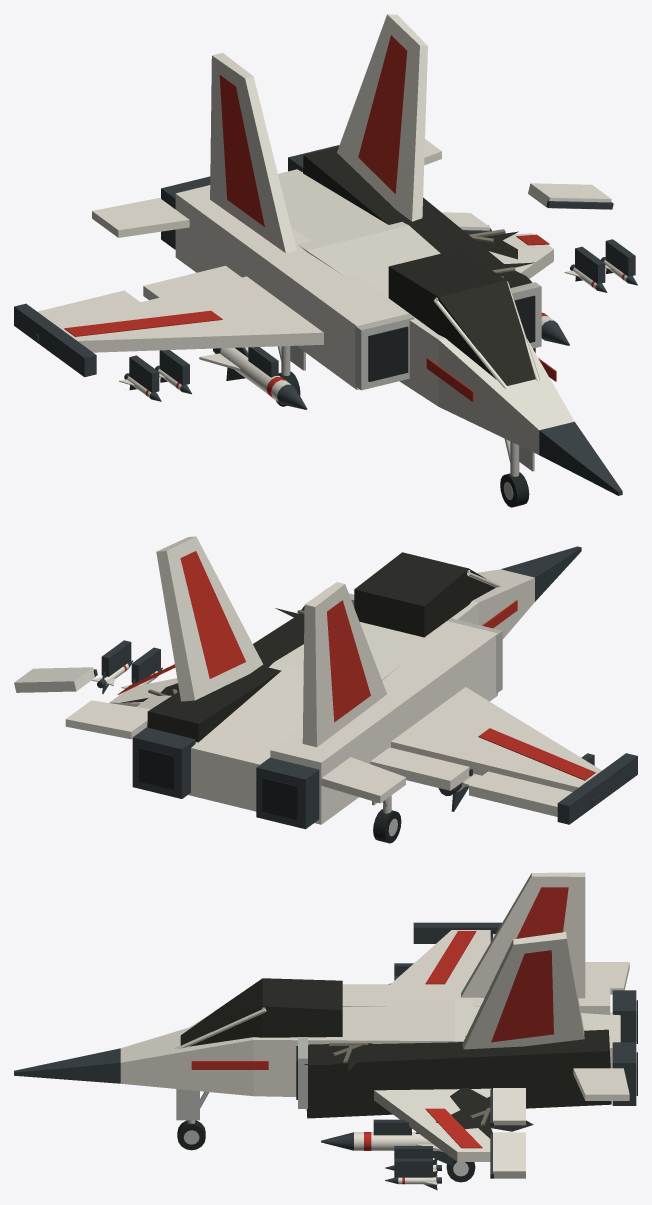
3 renders of one model, top to bottom at view 1: azimuth 30°, elevation 25°; view 2: azimuth 150°, elevation 25°; view 3: azimuth 270°, elevation 25°, orthographic. The views are drawn at different scales.
Visible parts, largest first — view 1: jet-b-damaged-fleet-armor, jet-b-damaged-fleet-damage-charred, jet-b-damaged-fleet-red, jet-b-damaged-fleet-machine, jet-b-damaged-fleet-rubber, jet-b-damaged-fleet-edge, elevator-left-fleet-armor, store-left-large-painted, aileron-right-painted, flap-left-painted, aileron-left-painted, gear-wheel-nose-0-0-painted; view 2: jet-b-damaged-fleet-armor, jet-b-damaged-fleet-damage-charred, jet-b-damaged-fleet-machine, jet-b-damaged-fleet-red, aileron-left-painted, jet-b-damaged-fleet-rubber, flap-left-painted, elevator-left-fleet-armor, elevator-right-fleet-armor, aileron-right-painted, gear-wheel-left-0-0-painted, jet-b-damaged-fleet-edge (+1 smaller); view 3: jet-b-damaged-fleet-armor, jet-b-damaged-fleet-damage-charred, jet-b-damaged-fleet-red, jet-b-damaged-fleet-machine, store-right-large-painted, aileron-right-painted, elevator-right-fleet-armor, flap-right-painted, elevator-left-fleet-armor, landing-gear-nose-fleet-edge, jet-b-damaged-fleet-edge, gear-wheel-nose-0-0-painted (+2 smaller).
Part boxes in pixels (left/top/right/bottom): jet-b-damaged-fleet-armor: left=54, top=14, right=574, bottom=454; jet-b-damaged-fleet-damage-charred: left=303, top=146, right=535, bottom=385; jet-b-damaged-fleet-red: left=64, top=35, right=556, bottom=401; jet-b-damaged-fleet-machine: left=14, top=145, right=635, bottom=495; jet-b-damaged-fleet-rubber: left=368, top=295, right=535, bottom=381; jet-b-damaged-fleet-edge: left=355, top=282, right=541, bottom=390; elevator-left-fleet-armor: left=92, top=198, right=189, bottom=237; store-left-large-painted: left=199, top=347, right=307, bottom=409; aileron-right-painted: left=528, top=183, right=613, bottom=209; flap-left-painted: left=143, top=265, right=241, bottom=299; aileron-left-painted: left=35, top=290, right=139, bottom=341; gear-wheel-nose-0-0-painted: left=500, top=472, right=529, bottom=507; jet-b-damaged-fleet-armor: left=109, top=536, right=601, bottom=824; jet-b-damaged-fleet-damage-charred: left=120, top=552, right=495, bottom=742; jet-b-damaged-fleet-machine: left=101, top=546, right=637, bottom=829; jet-b-damaged-fleet-red: left=117, top=551, right=595, bottom=780; aileron-left-painted: left=469, top=771, right=594, bottom=816; jet-b-damaged-fleet-rubber: left=139, top=747, right=298, bottom=820; flap-left-painted: left=370, top=747, right=472, bottom=790; elevator-left-fleet-armor: left=321, top=757, right=405, bottom=803; elevator-right-fleet-armor: left=65, top=700, right=150, bottom=739; aileron-right-painted: left=14, top=667, right=97, bottom=692; gear-wheel-left-0-0-painted: left=373, top=809, right=401, bottom=843; jet-b-damaged-fleet-edge: left=323, top=588, right=502, bottom=693; jet-b-damaged-fleet-armor: left=120, top=872, right=620, bottom=1161; jet-b-damaged-fleet-damage-charred: left=180, top=978, right=611, bottom=1138; jet-b-damaged-fleet-red: left=191, top=887, right=568, bottom=1148; jet-b-damaged-fleet-machine: left=14, top=922, right=636, bottom=1177; store-right-large-painted: left=321, top=1132, right=453, bottom=1166; aileron-right-painted: left=490, top=1132, right=525, bottom=1178; elevator-right-fleet-armor: left=573, top=1068, right=629, bottom=1100; flap-right-painted: left=490, top=1088, right=525, bottom=1125; elevator-left-fleet-armor: left=585, top=962, right=629, bottom=994; landing-gear-nose-fleet-edge: left=176, top=1089, right=209, bottom=1123; jet-b-damaged-fleet-edge: left=298, top=1037, right=307, bottom=1108; gear-wheel-nose-0-0-painted: left=177, top=1120, right=205, bottom=1150.
Size of the model in its own units: 48.99 by 24.7 by 54.74.
